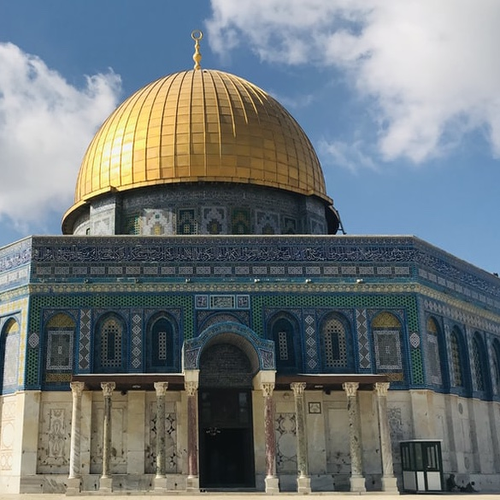Mosque: (19, 26, 488, 492)
